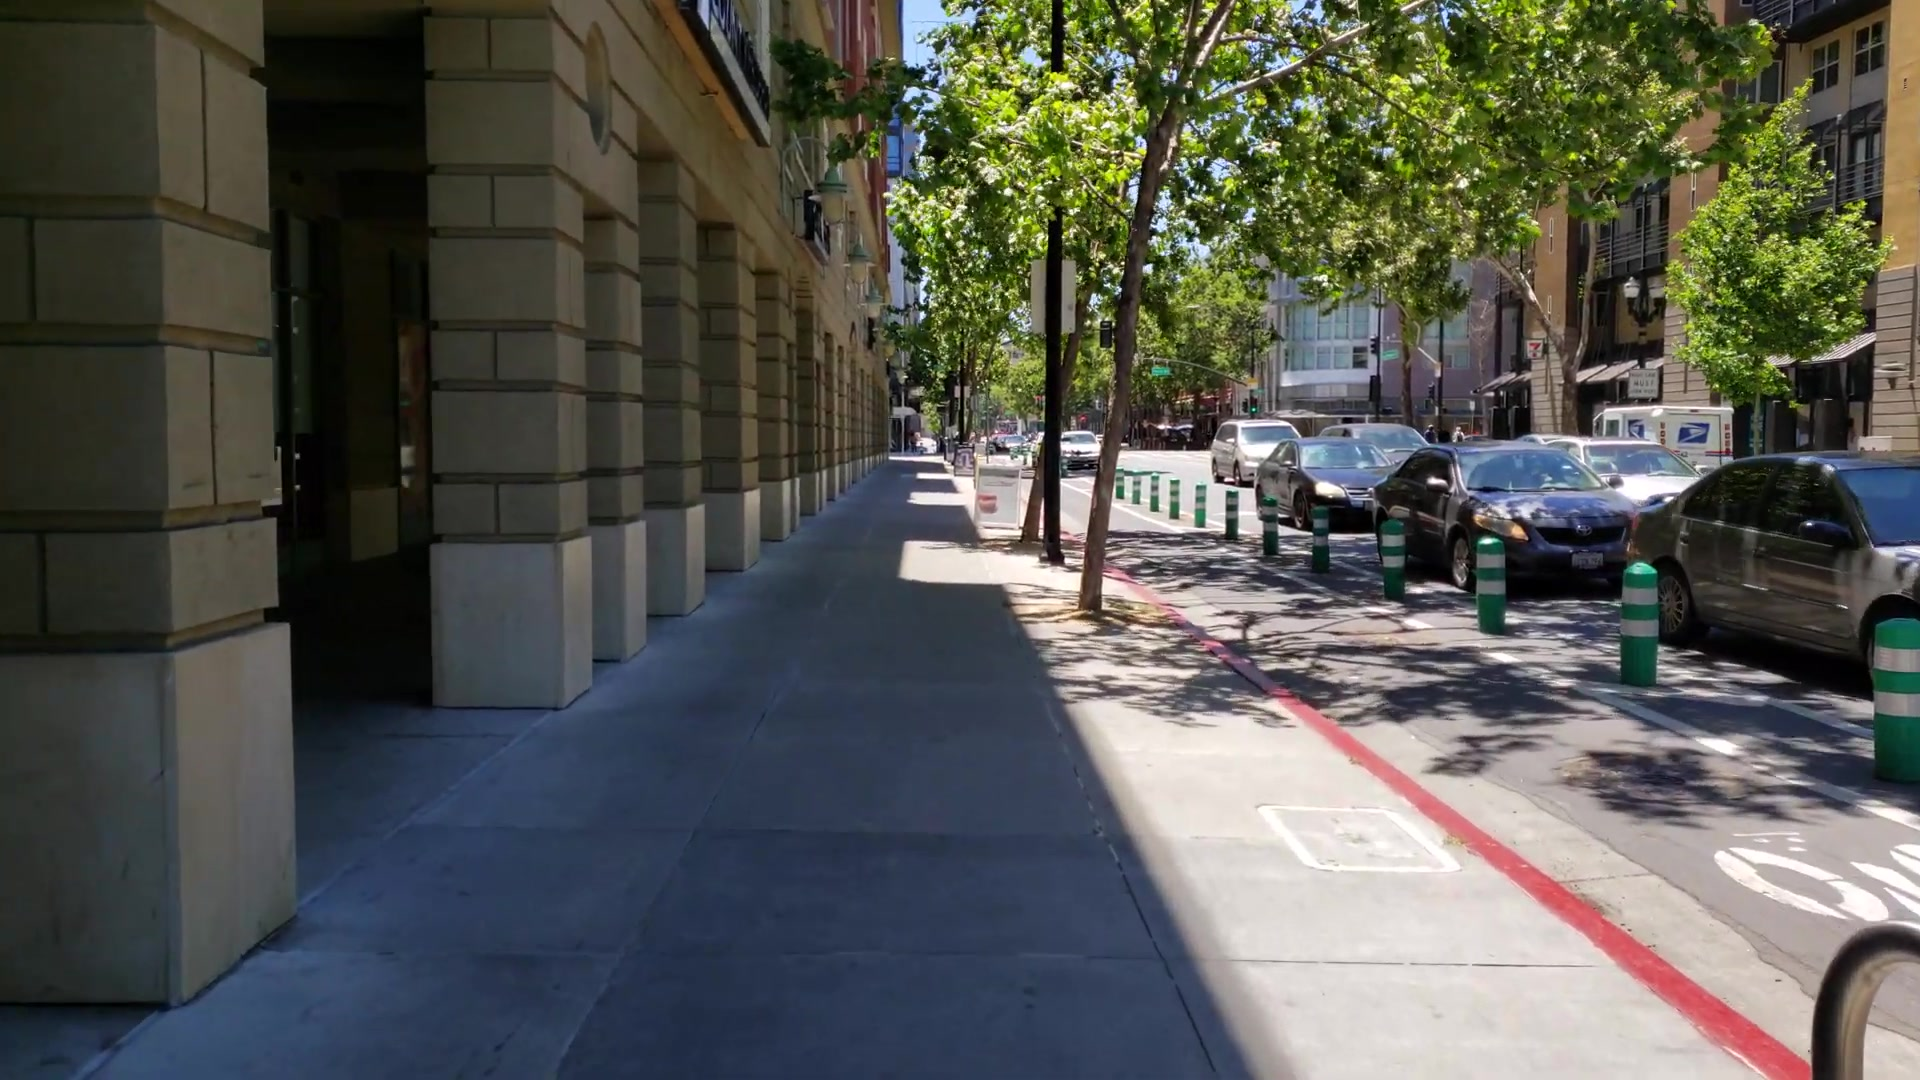vehicle: (1633, 455, 1920, 673), (1375, 440, 1631, 593), (1257, 436, 1377, 531), (1213, 421, 1294, 481)
